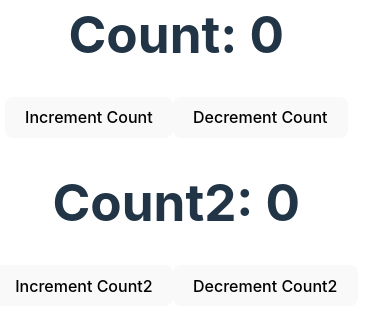
App › Second count2 is decremented correctly
expect the heading with test id "count2 display" reads "Count2: 0": met, box top-left (52, 174), bottom-right (300, 231)
Step 1. Click the button "Decrement Count2" → (265, 286), box top-left (173, 265), bottom-right (358, 306)
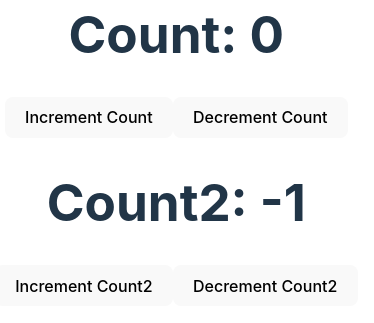
expect the heading with test id "count2 display" reads "Count2: -1": met, box top-left (47, 174), bottom-right (306, 231)
Step 2. Click the button "Decrement Count2" → (265, 286), box top-left (173, 265), bottom-right (358, 306)
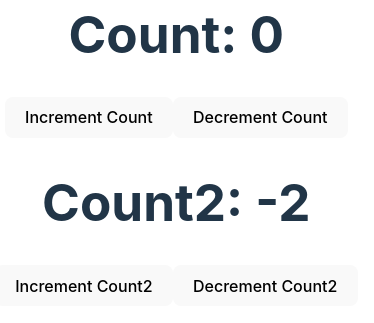
expect the heading with test id "count2 display" reads "Count2: -2": met, box top-left (42, 174), bottom-right (310, 231)
